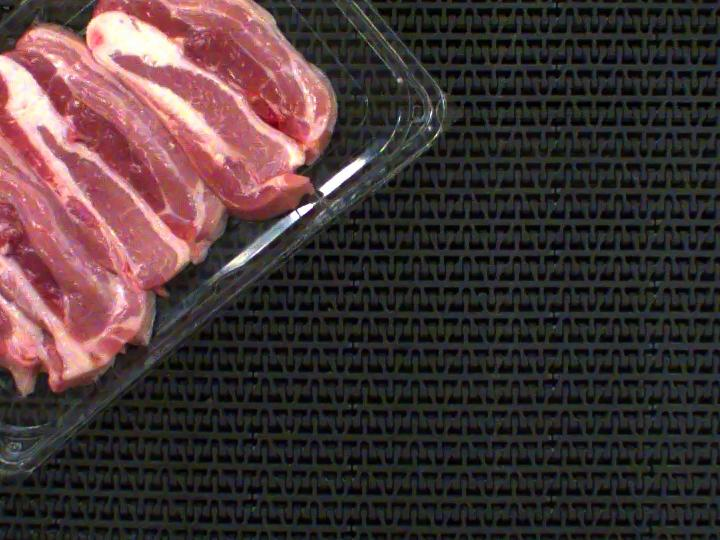packaging-error: (300, 180, 328, 213)
